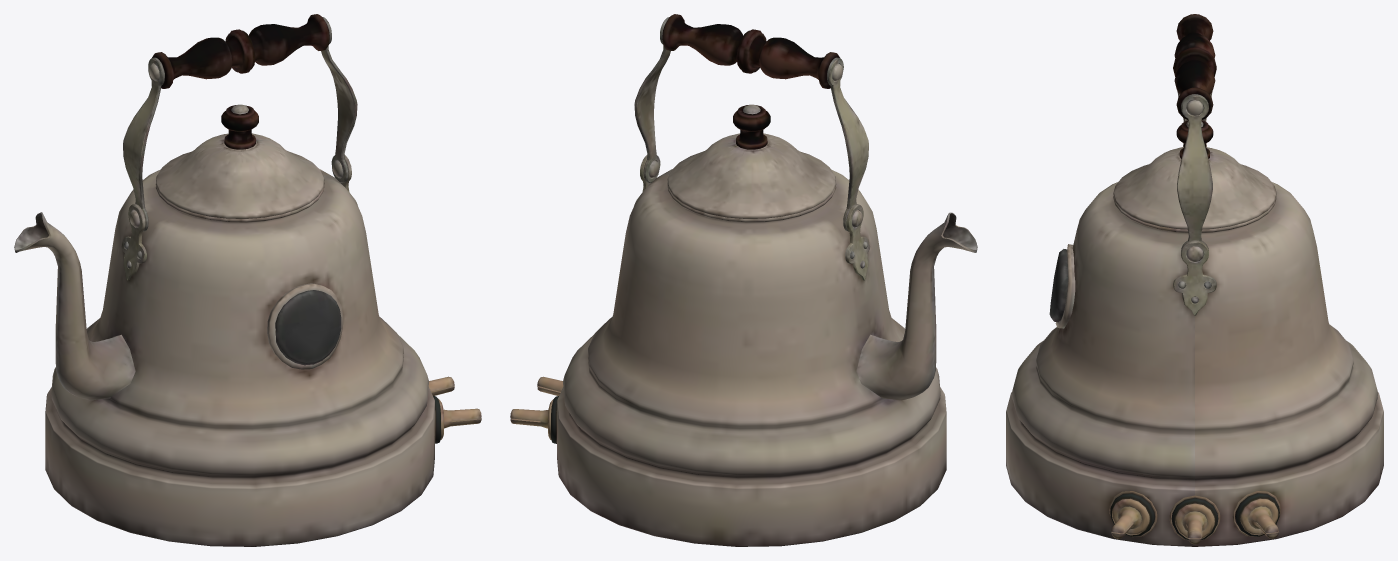
Rendered from vintage_electric_kettle.glb.
The picture shows the model from 3 angles, left to right: view 1: azimuth 30°, elevation 25°; view 2: azimuth 150°, elevation 25°; view 3: azimuth 270°, elevation 25°; orthographic projection. The views are drawn at different scales.
Parts seen in each view (by area): view 1: vintage_electric_kettle; view 2: vintage_electric_kettle; view 3: vintage_electric_kettle.
Part boxes in pixels (x1,y1,x2,y2): vintage_electric_kettle: [14, 14, 481, 546]; vintage_electric_kettle: [510, 14, 977, 546]; vintage_electric_kettle: [1006, 14, 1383, 546].
Size of the model in its own units: 0.3209 by 0.3048 by 0.2486.
Materials: 2 (2 with a texture image).
